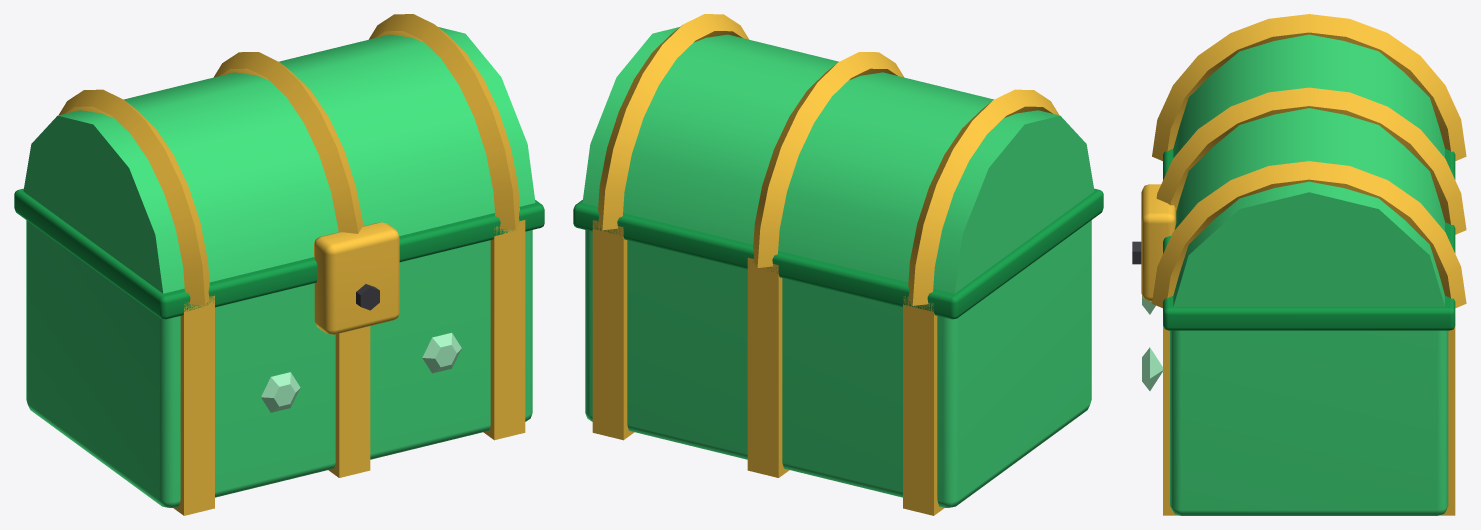
File: EmeraldChest.fbx
3 views of the same model, side by side, from view 1: azimuth 30°, elevation 25°; view 2: azimuth 150°, elevation 25°; view 3: azimuth 270°, elevation 25° (orthographic). The views are drawn at different scales.
Parts seen in each view (by area): view 1: EmeraldChest; view 2: EmeraldChest; view 3: EmeraldChest.
Part boxes in pixels (x1,y1,x2,y2): EmeraldChest: (14, 14, 544, 515); EmeraldChest: (573, 14, 1103, 515); EmeraldChest: (1132, 14, 1466, 515).
Bounding box in the file's own units: 3.1 × 2.75 × 2.4.
1 material, 1 textured.
